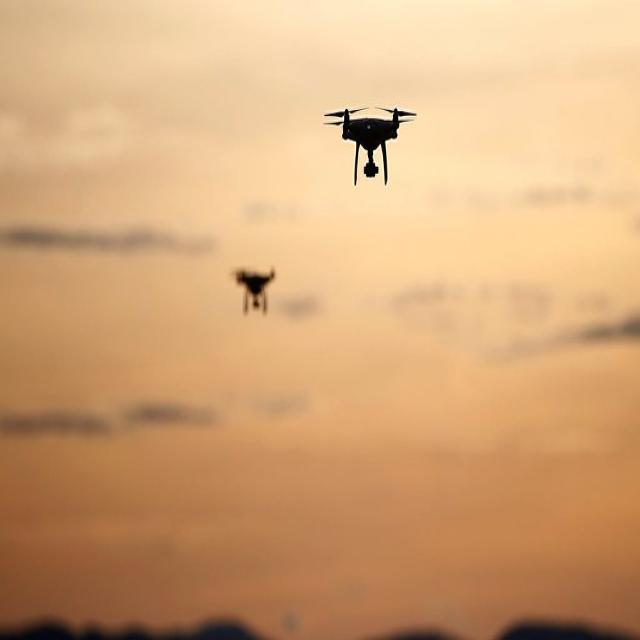drone: (318, 97, 422, 182), (230, 259, 282, 311)
